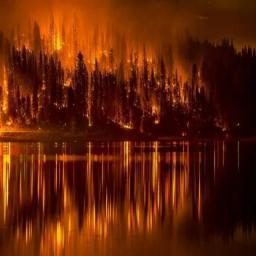Medium fire: (0, 0, 233, 135)
